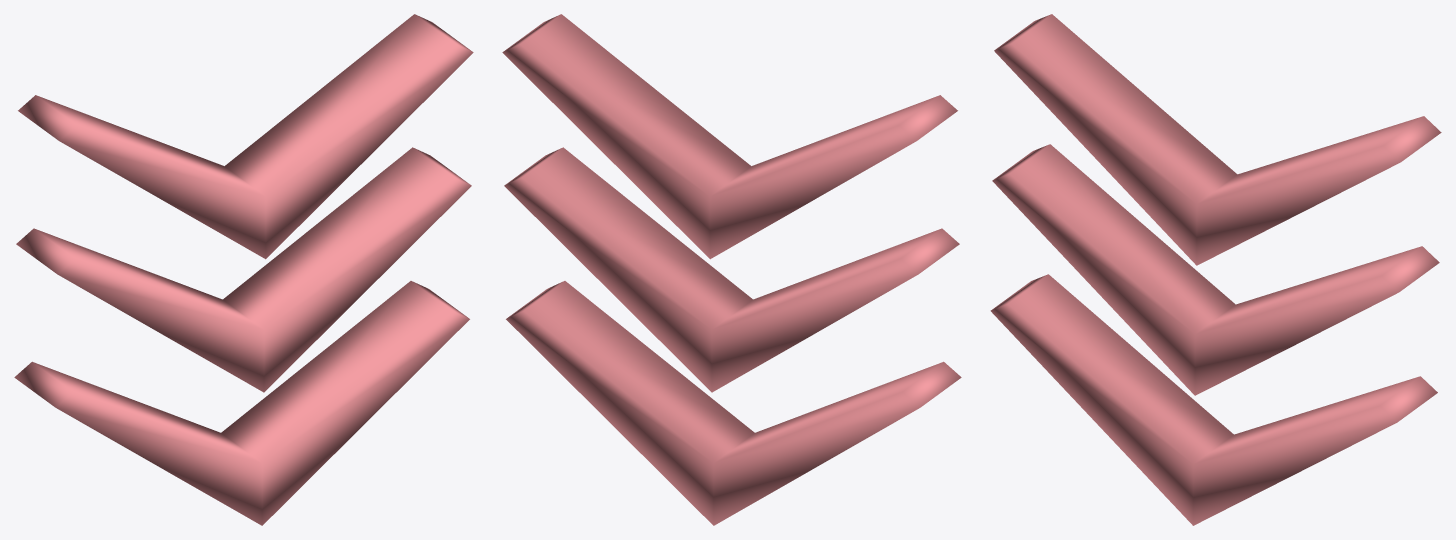
The model's file is arrow1.fbx.
3 renders of one model, left to right at view 1: azimuth 30°, elevation 25°; view 2: azimuth 150°, elevation 25°; view 3: azimuth 330°, elevation 25°, orthographic.
Visible parts, largest first — view 1: obj_0; view 2: obj_0; view 3: obj_0.
Part boxes in pixels (bbox=[...]): obj_0: bbox=[14, 14, 473, 525]; obj_0: bbox=[502, 14, 961, 525]; obj_0: bbox=[990, 14, 1441, 525].
Size of the model in its own units: 19848 by 20224 by 3406.
